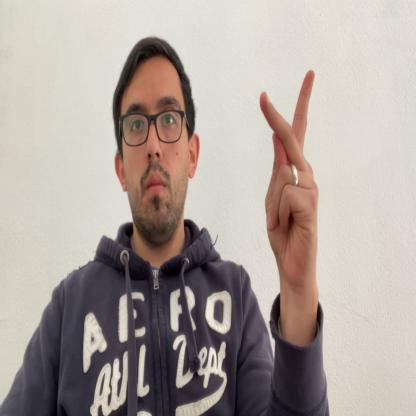P: (260, 69, 318, 303)
